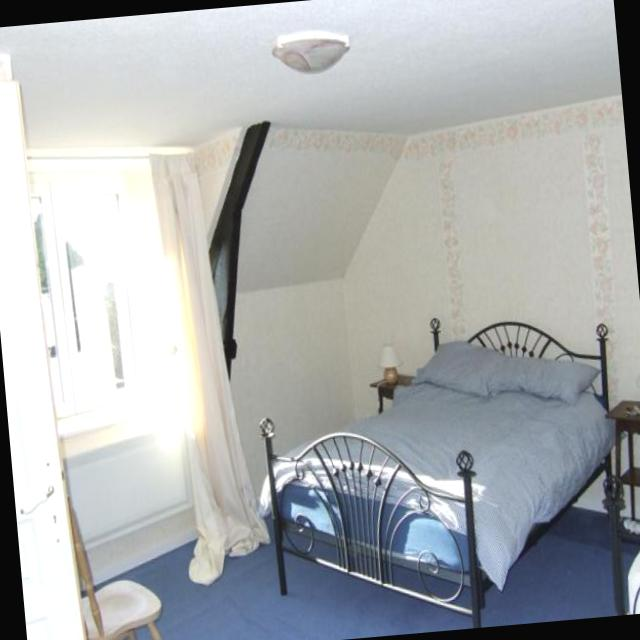bed: (249, 300, 635, 640)
chair: (63, 457, 183, 640)
curtains: (146, 127, 282, 586)
door: (0, 45, 93, 640)
lamps: (378, 344, 404, 384)
light: (270, 25, 353, 77)
rugs: (75, 485, 640, 640)
table-lamp: (634, 355, 640, 409)
